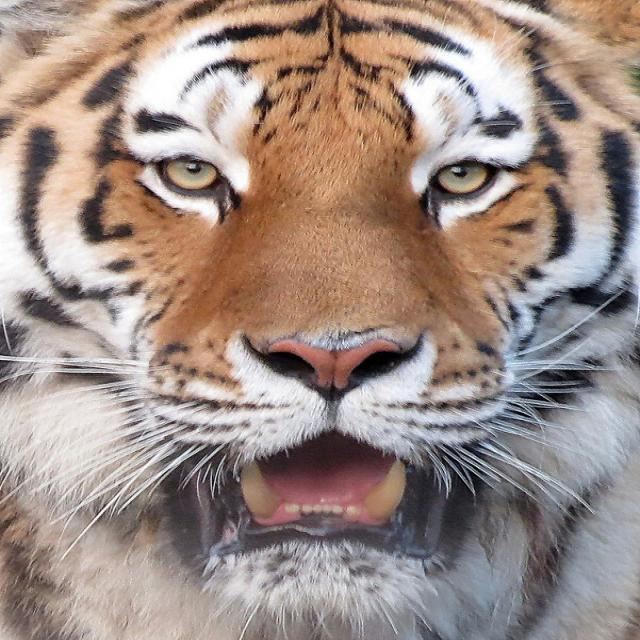Tiger: (0, 1, 633, 637)
